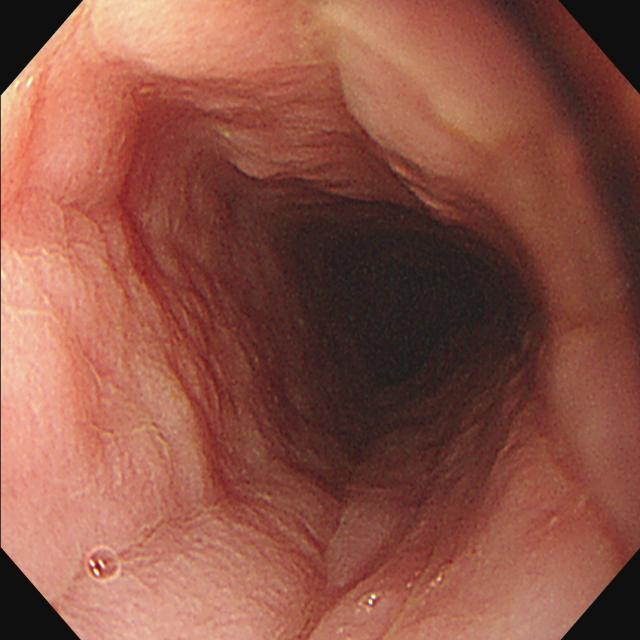E: (261, 200, 507, 440)
T: (85, 546, 125, 585), (359, 589, 385, 611)
